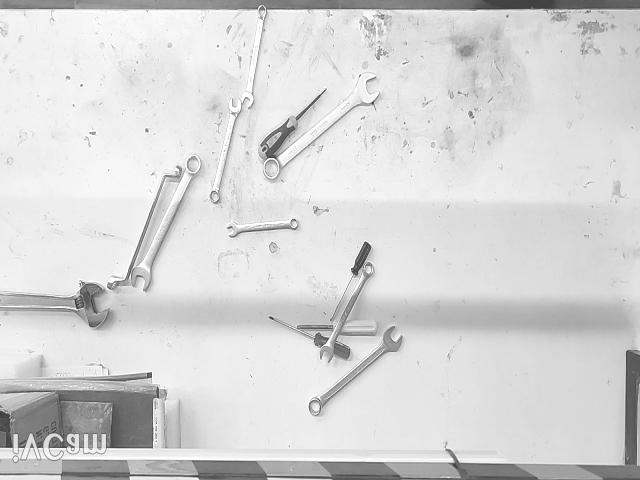Adjustable spanner: (0, 279, 109, 328)
Screwdriver: (258, 88, 328, 159), (268, 315, 350, 360), (330, 241, 372, 322), (296, 320, 378, 336)
Wrench: (263, 72, 379, 180), (131, 155, 201, 292), (107, 165, 182, 291), (308, 325, 402, 415), (320, 262, 374, 363), (210, 97, 242, 203), (241, 5, 266, 109), (227, 217, 299, 237)
